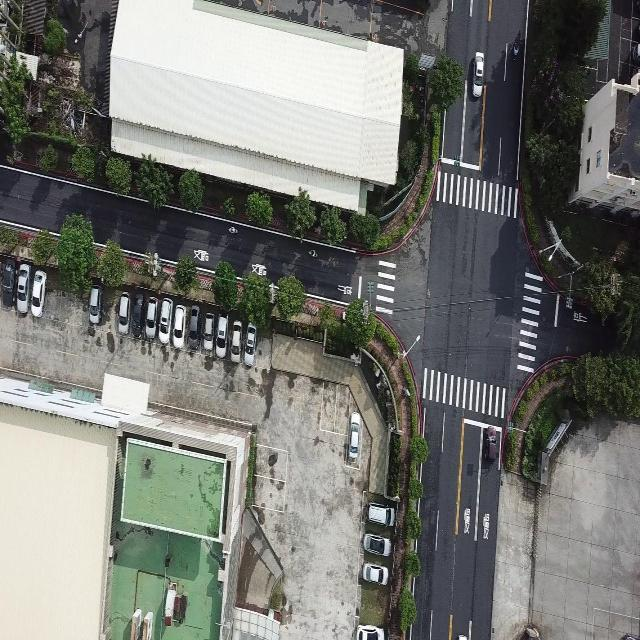bike: (227, 223, 239, 235), (308, 246, 318, 259)
car: (0, 256, 16, 314), (30, 269, 47, 318), (367, 501, 395, 529), (16, 263, 30, 314), (363, 532, 391, 557), (158, 298, 173, 344), (117, 291, 131, 336), (348, 412, 361, 460), (362, 562, 388, 586), (144, 296, 158, 340), (172, 304, 185, 349), (131, 294, 144, 339), (187, 306, 200, 351), (215, 315, 228, 359), (88, 284, 102, 324), (472, 51, 484, 97), (202, 308, 214, 354), (230, 316, 241, 364), (244, 323, 256, 366), (484, 426, 497, 460), (356, 624, 384, 639), (252, 263, 266, 277)
